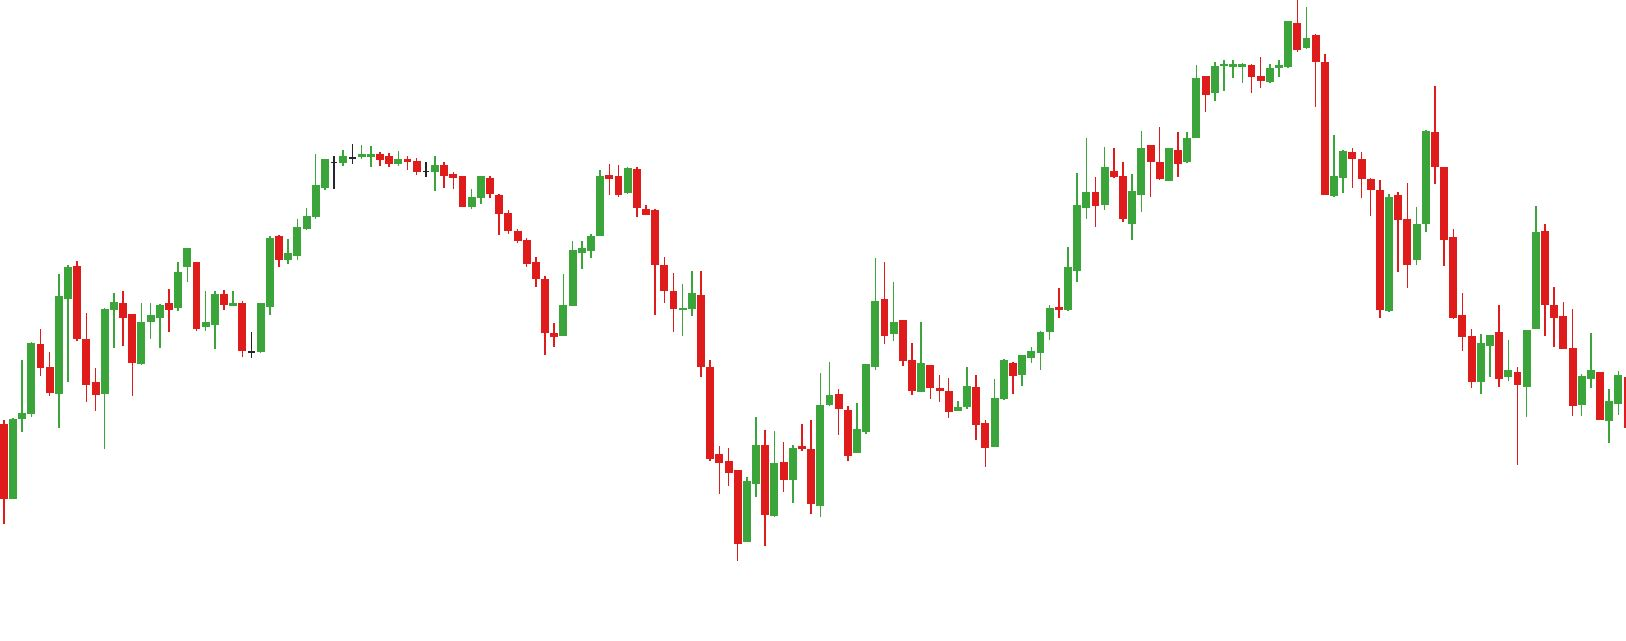buy: (53, 303, 109, 455)
sell: (1331, 82, 1442, 224)
